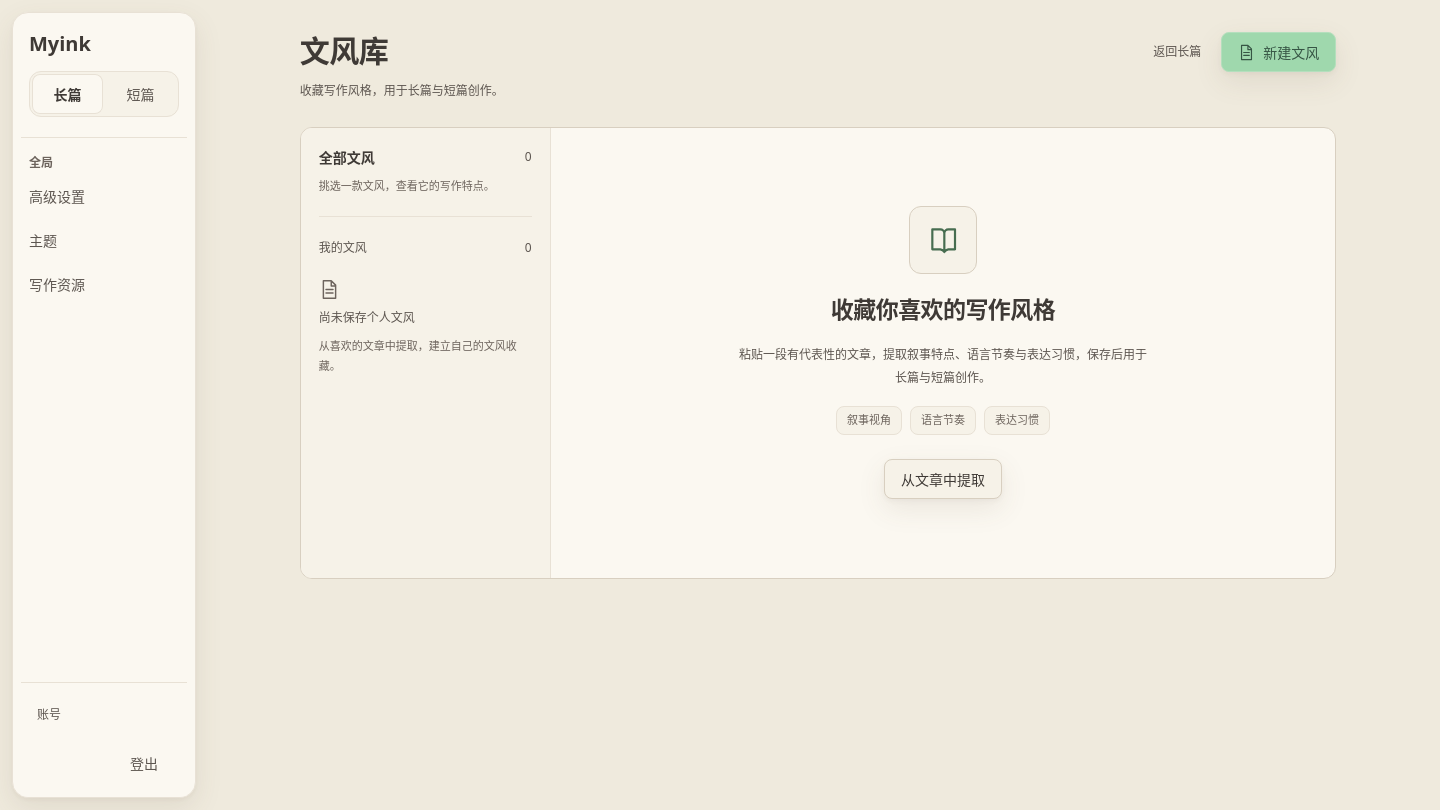
Test: extracts a sample, lets the user name it, and saves it into the list
The image size is (1440, 810).
Click the button "新建文风": (1279, 52) [1221, 32, 1336, 72]
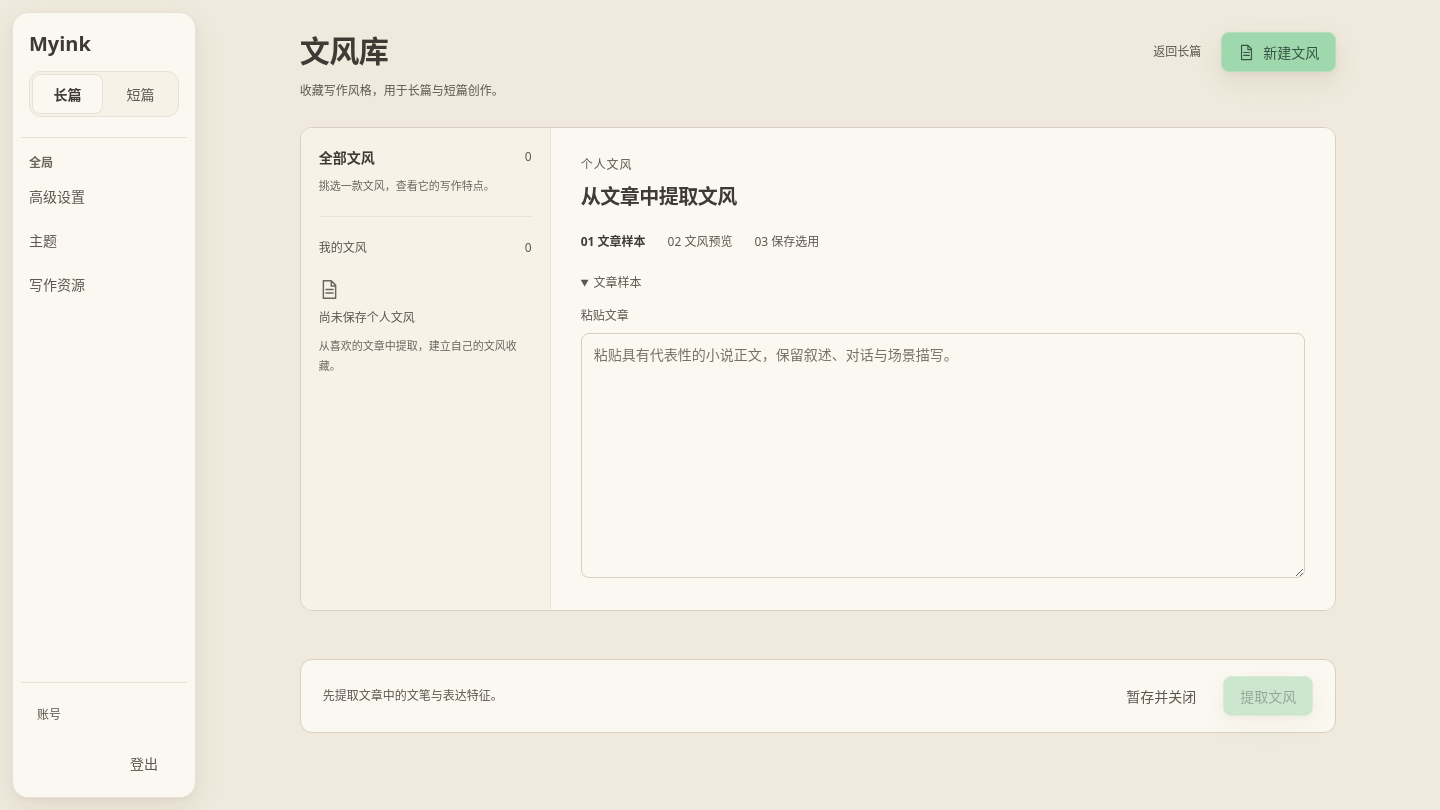
In the text box labelled "粘贴文章": (943, 455) [581, 333, 1305, 578], type "渡口的老人守着最后一班船。"
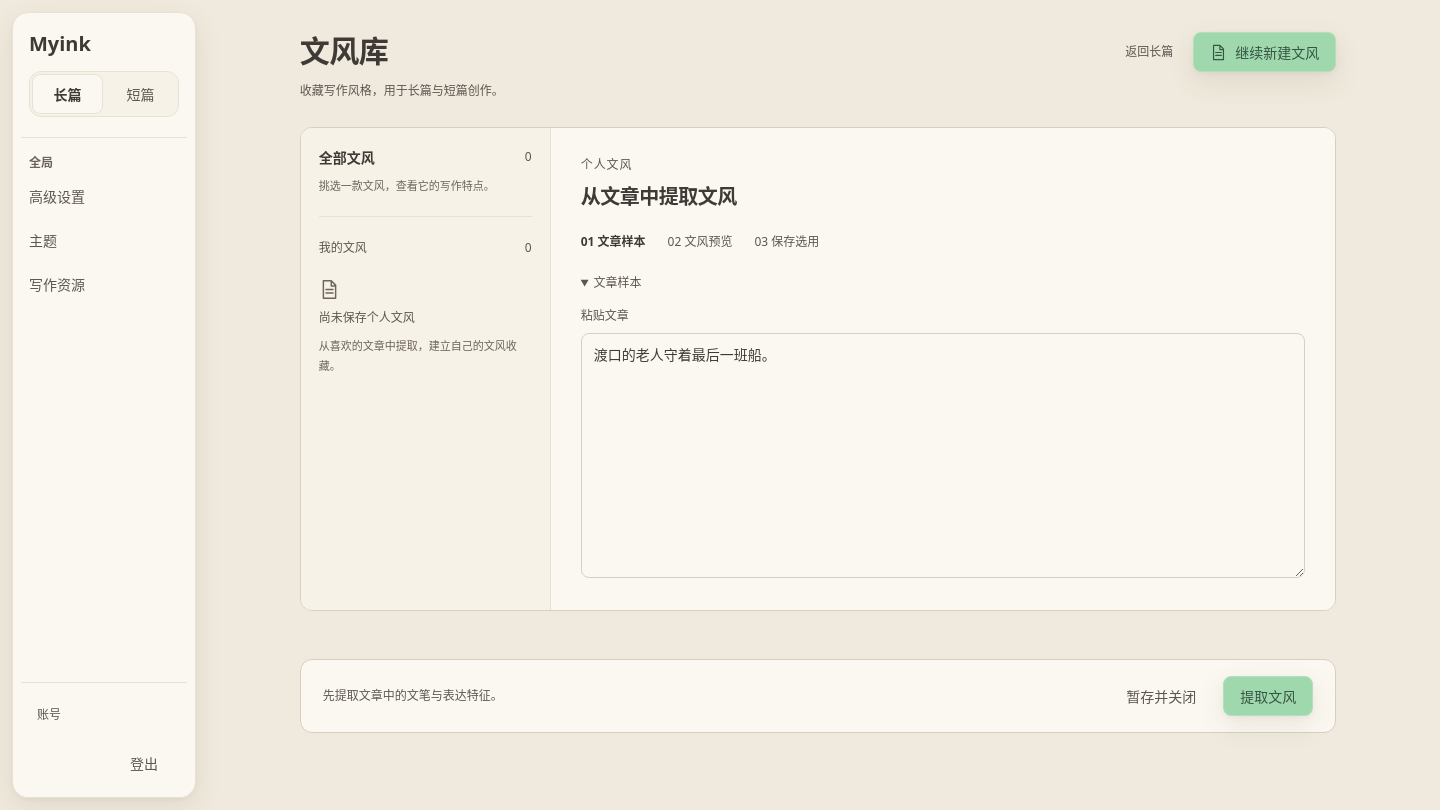
Click the button "提取文风": (1268, 696) [1223, 676, 1313, 716]
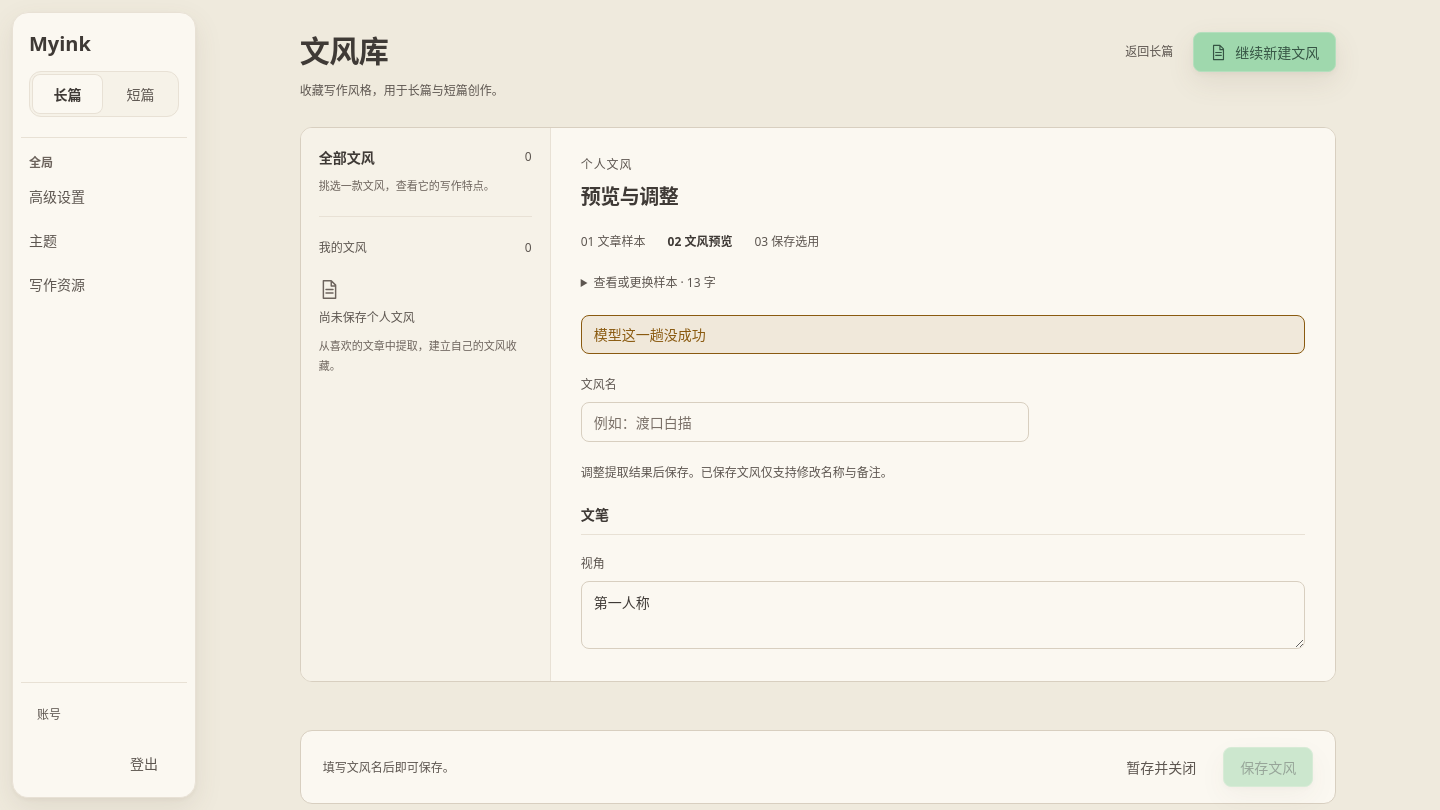
Check: the message "模型这一趟没成功" is shown, box [581, 315, 1305, 354]
In the field labelled "文风名": (805, 422) [581, 402, 1029, 442], type "渡口白描"
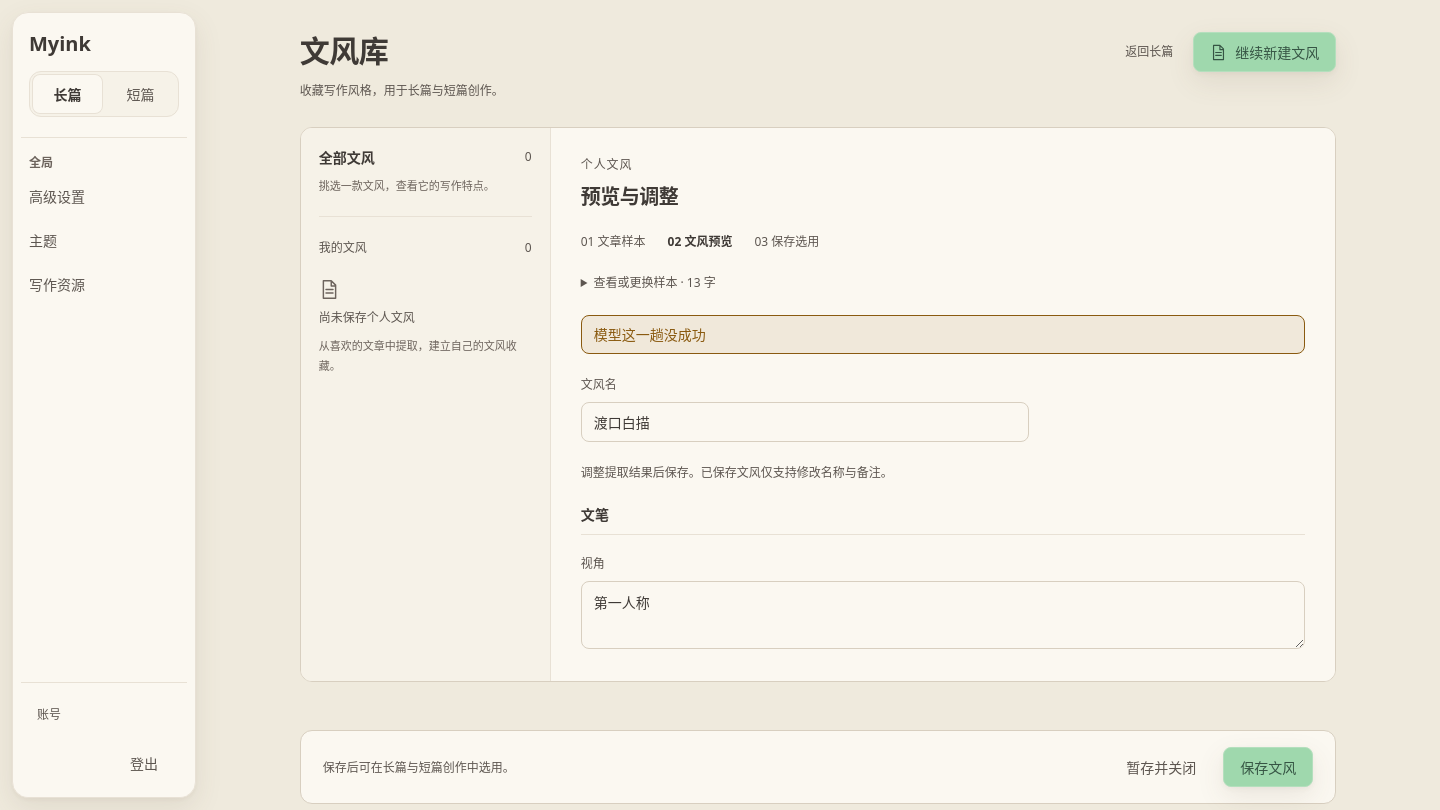
Click the button "保存文风": (1268, 767) [1223, 747, 1313, 787]
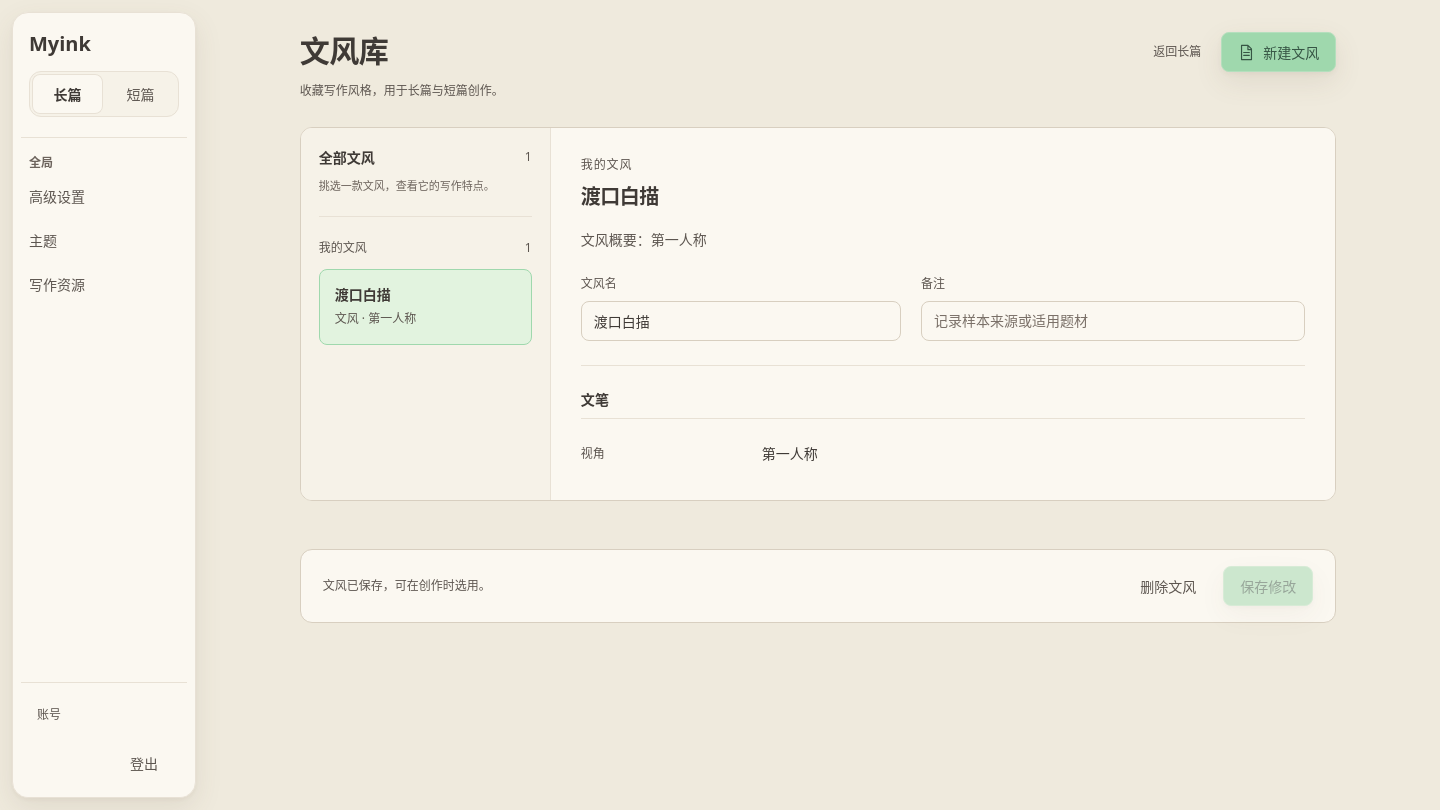
Check: the text "渡口白描" is shown, box [335, 284, 391, 304]
Check: the button "渡口白描 文风 · 第一人称" is shown, box [319, 269, 532, 345]
